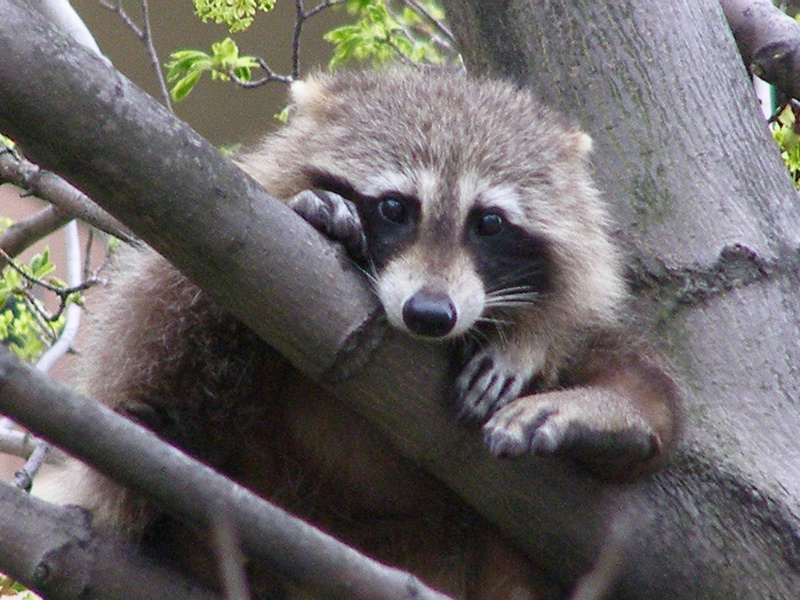raccoon: (55, 58, 696, 574)
